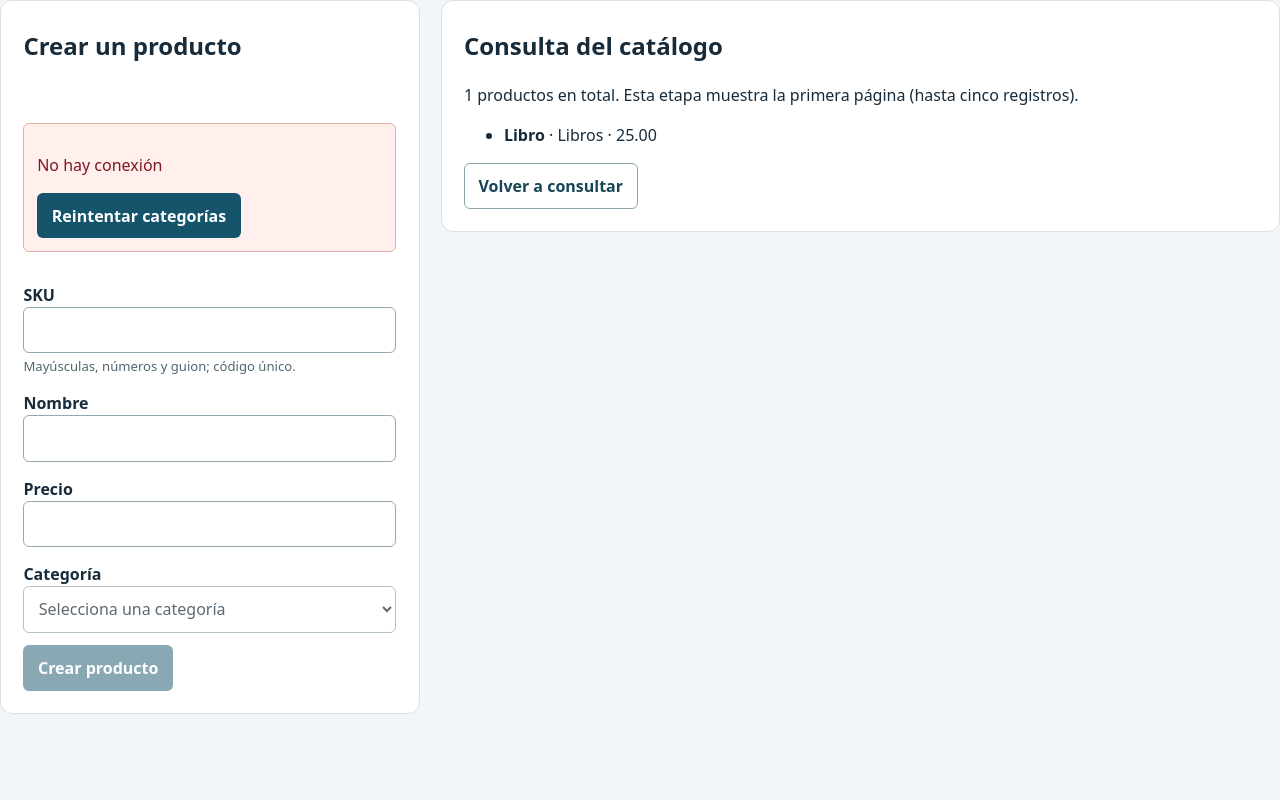
Test case: etapa 2 permite reintentar la carga de categorías
Expected: the text "No hay conexión" is shown, [37,154,162,176]
What coordinates should you click on to do the following:
click the button "Reintentar categorías"
I would click on:
 (139, 216)
Its box is [37,193,241,238].
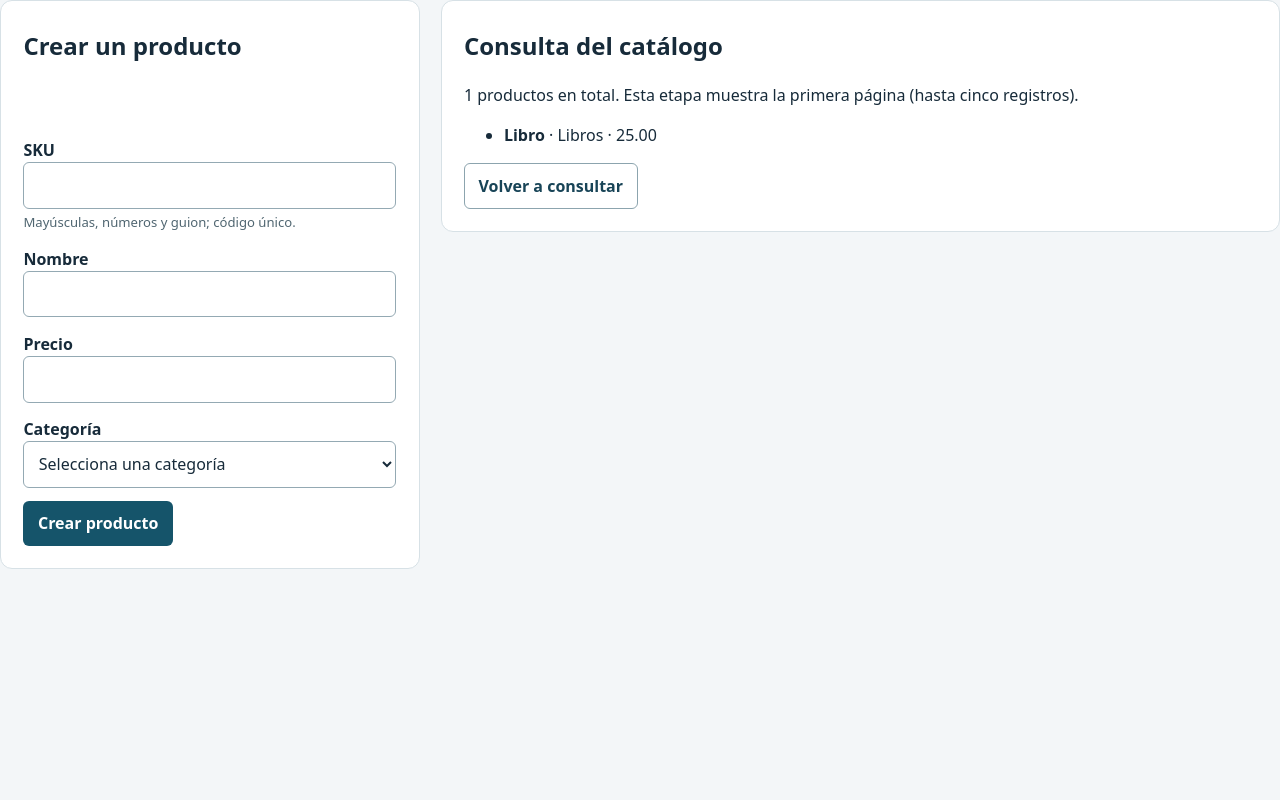
Expected: the element labelled "Nombre" is enabled, [23,123,396,546]
